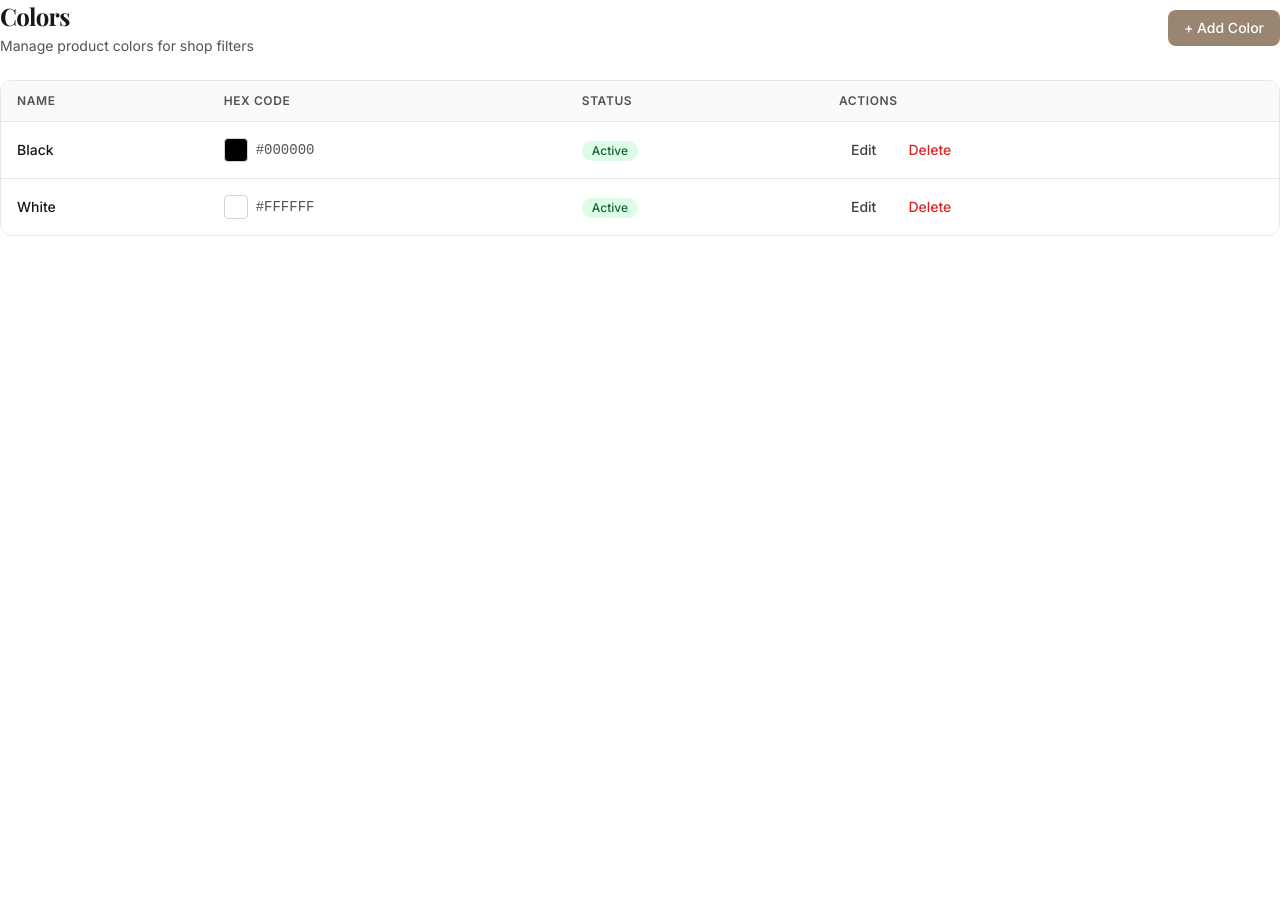
it: ColorList › opens the create modal when Add Color is clicked
The image size is (1280, 900).
Click the button "+ Add Color" at (1224, 28), box [1168,10,1279,46]
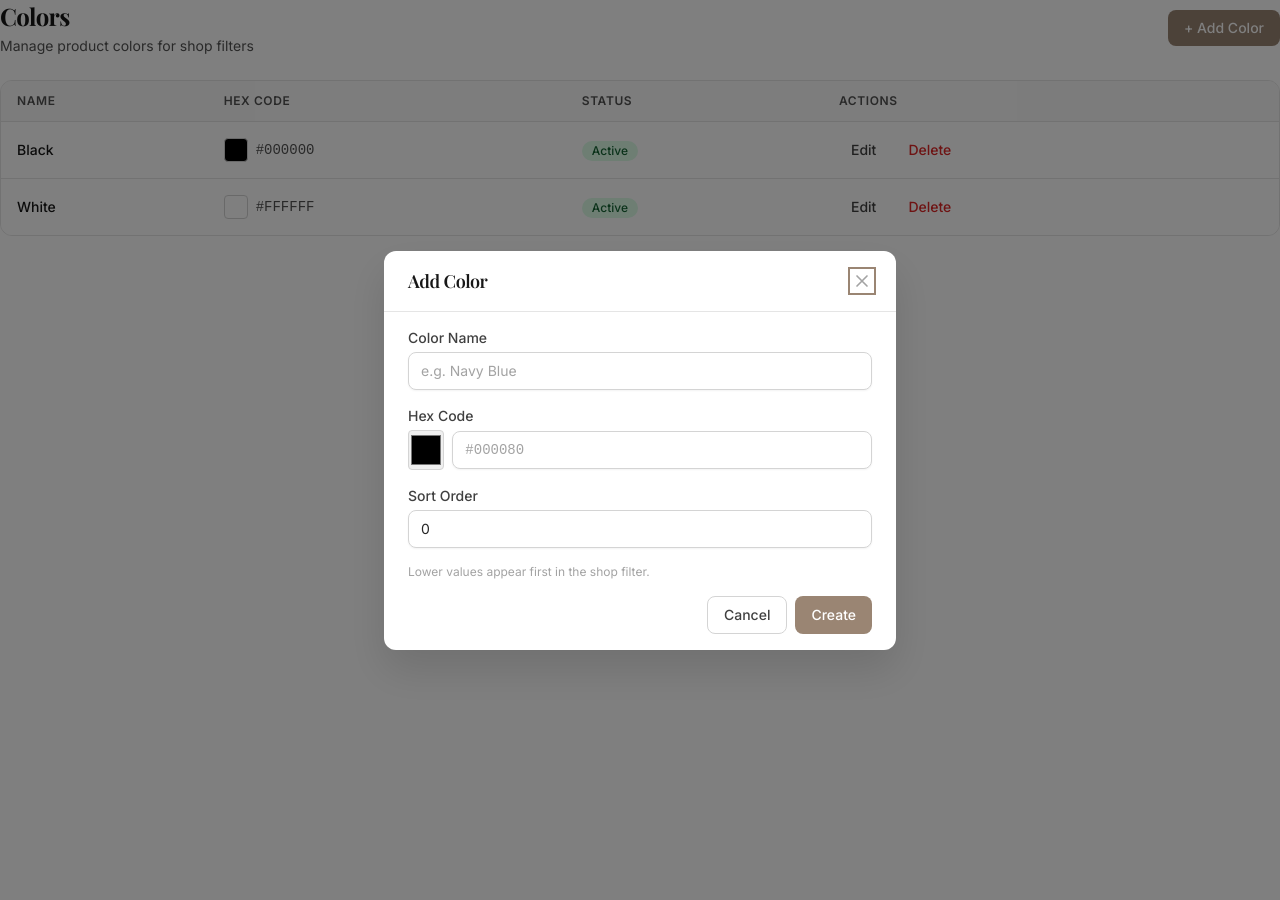
Result: the heading "Add Color" is shown at [408,266,487,294]
Result: the field with placeholder "e.g. Navy Blue" is shown at [408,352,872,390]
